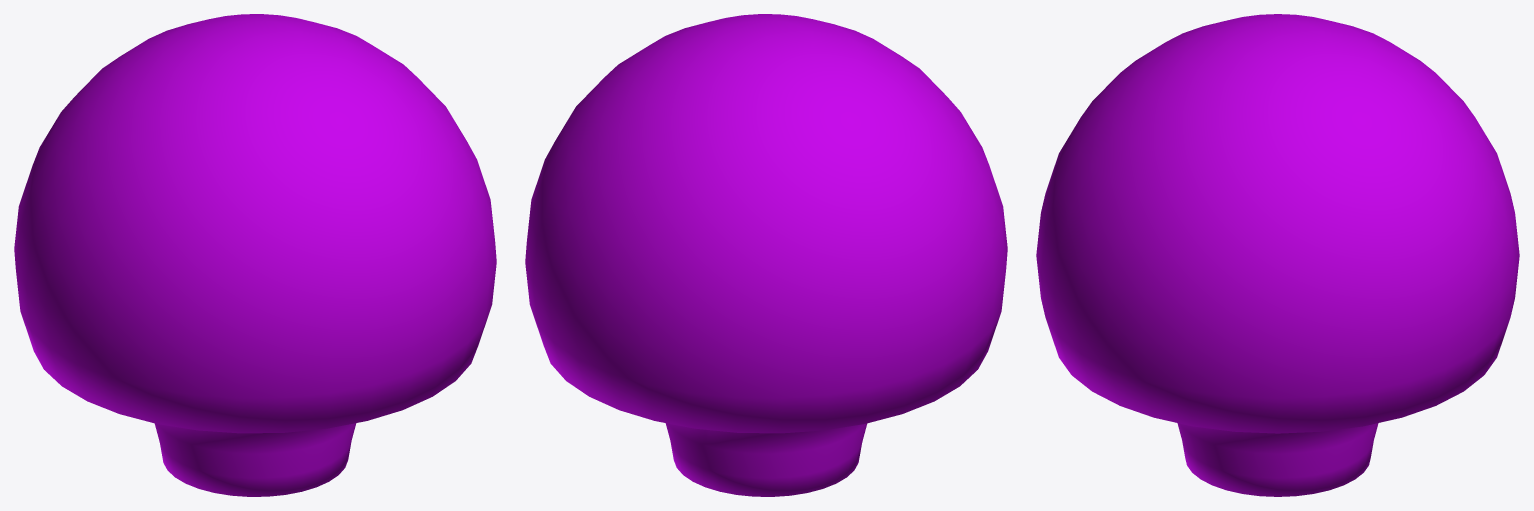
File: Mushroom.fbx
3 renders of one model, left to right at view 1: azimuth 30°, elevation 25°; view 2: azimuth 150°, elevation 25°; view 3: azimuth 270°, elevation 25°, orthographic.
Visible parts, largest first — view 1: Sphere; view 2: Sphere; view 3: Sphere.
Part boxes in pixels (x1,y1,x2,y2): Sphere: (14, 14, 496, 496); Sphere: (525, 14, 1007, 496); Sphere: (1036, 14, 1519, 496).
Bounding box in the file's own units: 273 × 273 × 273.
